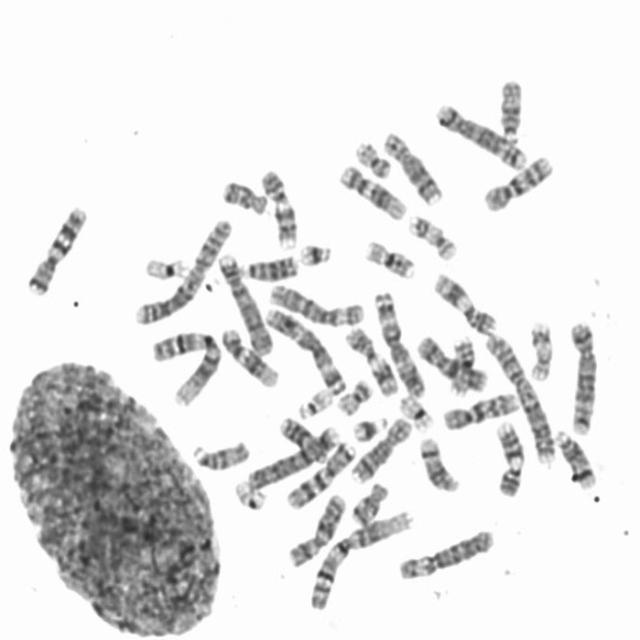A1: (308, 507, 414, 612), (149, 332, 220, 406)
A2: (132, 216, 232, 326), (482, 332, 556, 464)
A3: (262, 306, 348, 398), (371, 292, 426, 399)
B4: (216, 252, 275, 358), (248, 426, 342, 490)
B5: (434, 102, 527, 171), (568, 318, 598, 436)
C10: (483, 154, 553, 214), (442, 392, 519, 432)
C11: (433, 274, 497, 336), (345, 326, 399, 398)
C12: (338, 165, 407, 222), (220, 328, 279, 388)
C6: (396, 528, 494, 584), (268, 284, 366, 328)
C7: (27, 204, 87, 298), (281, 441, 358, 512)
C8: (383, 132, 443, 206), (351, 416, 414, 486)
C9: (262, 168, 298, 250), (494, 420, 524, 498)
D13: (276, 416, 331, 468), (238, 254, 299, 284)
D14: (552, 428, 598, 491), (421, 436, 462, 494)
D15: (192, 440, 252, 472), (500, 76, 524, 147)
E16: (364, 240, 416, 282), (446, 332, 477, 398)
E17: (407, 214, 459, 262), (528, 320, 555, 384)
E18: (351, 479, 391, 528), (224, 180, 268, 216)
F19: (398, 393, 435, 432), (145, 256, 192, 282)
F20: (355, 142, 392, 180), (338, 378, 373, 418)
G21: (352, 414, 391, 444), (298, 242, 334, 268)
G22: (296, 386, 335, 422), (234, 479, 269, 514)
X: (287, 491, 347, 570), (415, 333, 487, 392)
